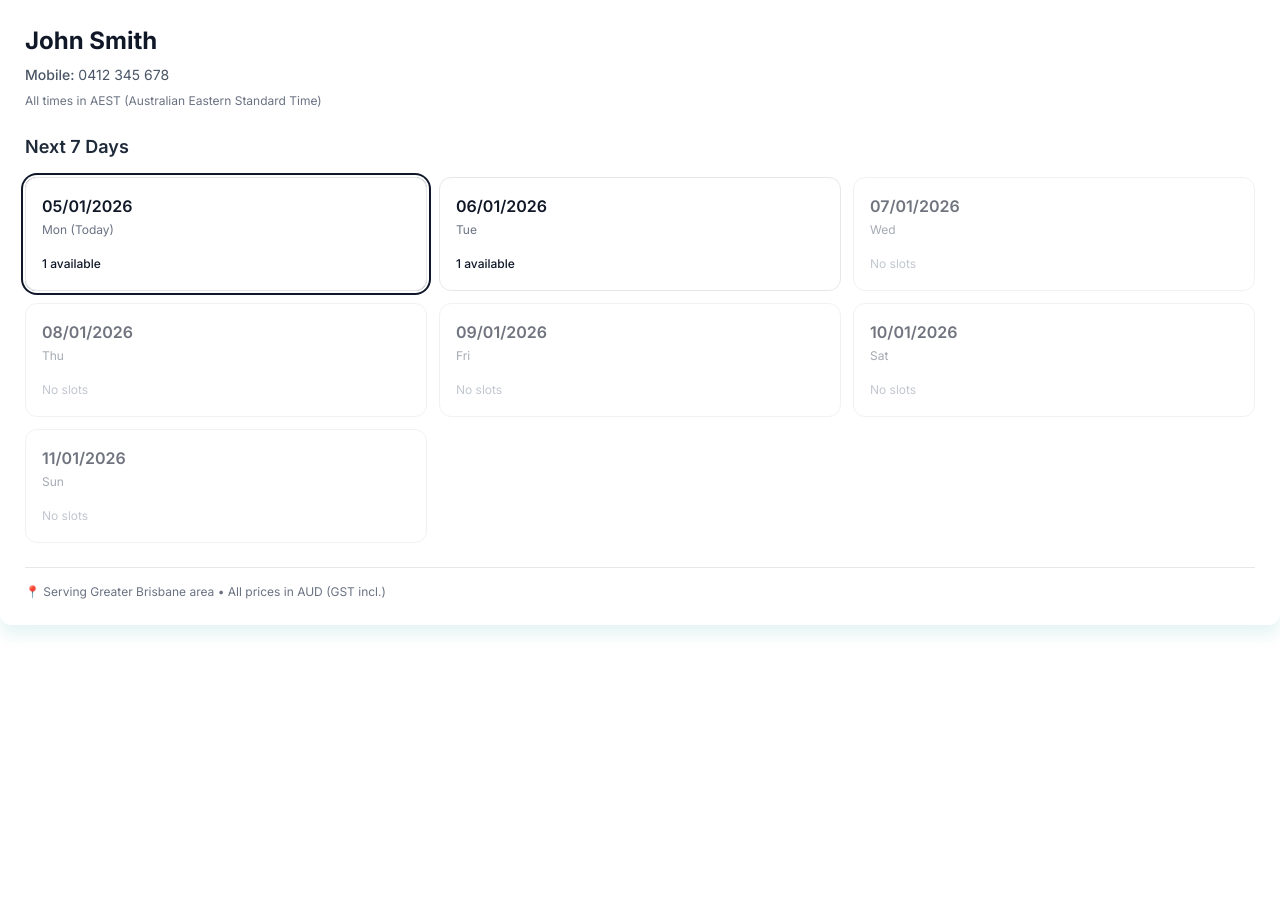
Test: ContractorAvailability › Brisbane Locations › displays Queensland state abbreviation
Click the button "06/01/2026 Tue 1 available".
click(501, 206)  # box [439, 177, 841, 291]
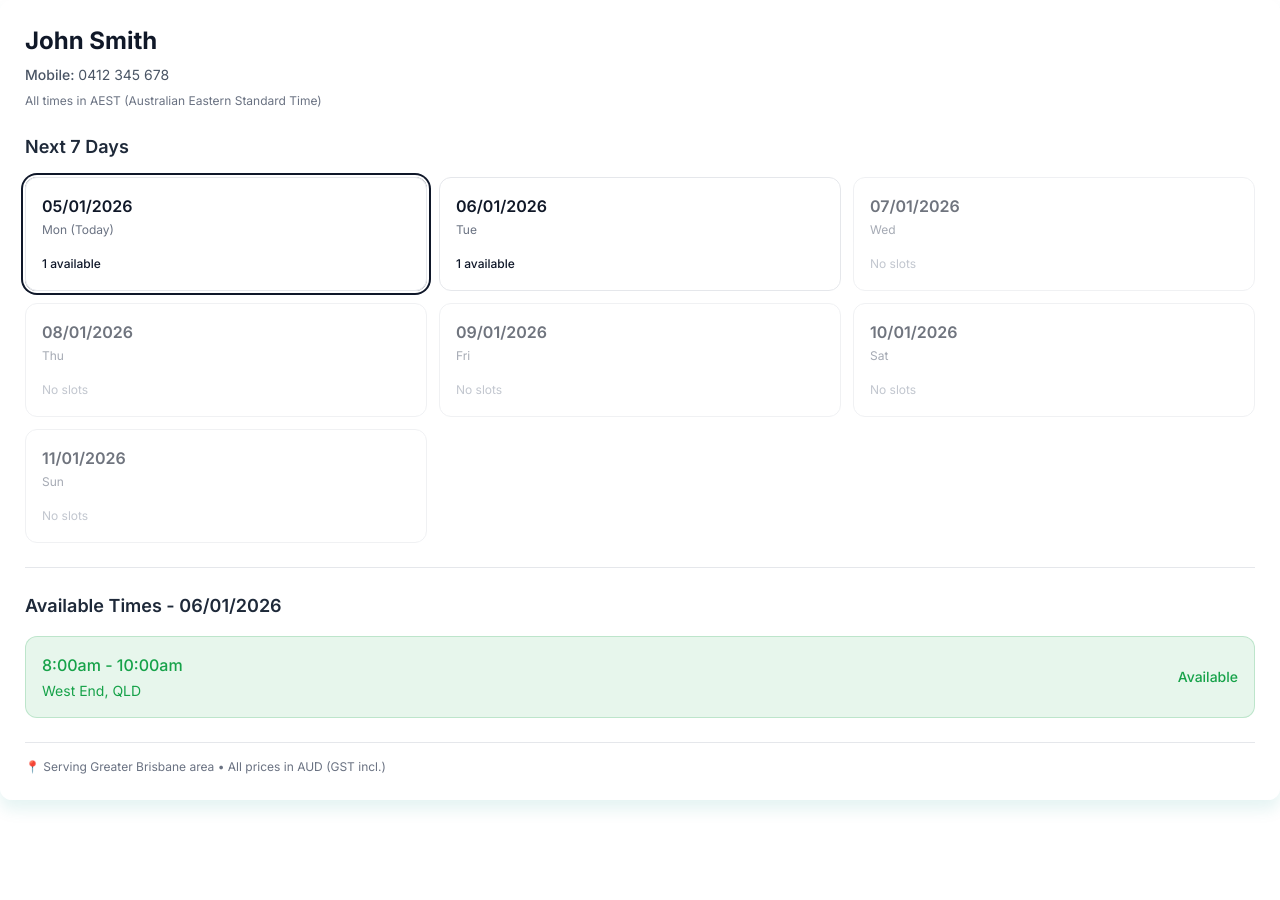
Expected: the text "West End, QLD" is shown, [42, 682, 141, 699]
